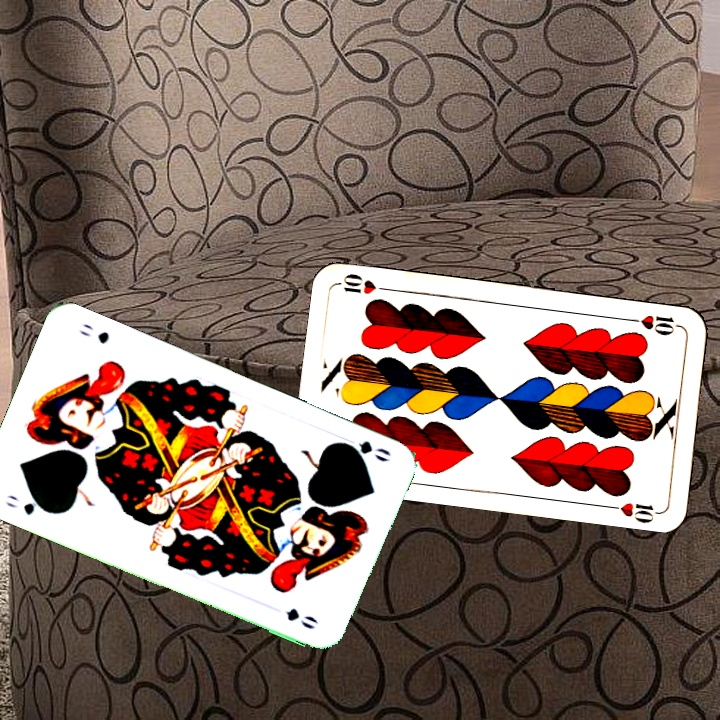GO: (335, 432, 393, 465), (2, 490, 55, 518)
H10: (625, 311, 684, 337)
